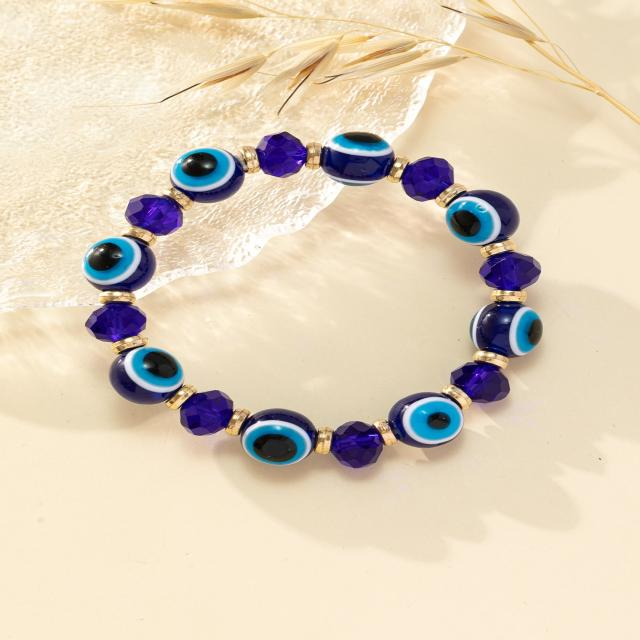bracelet: (37, 0, 612, 538)
